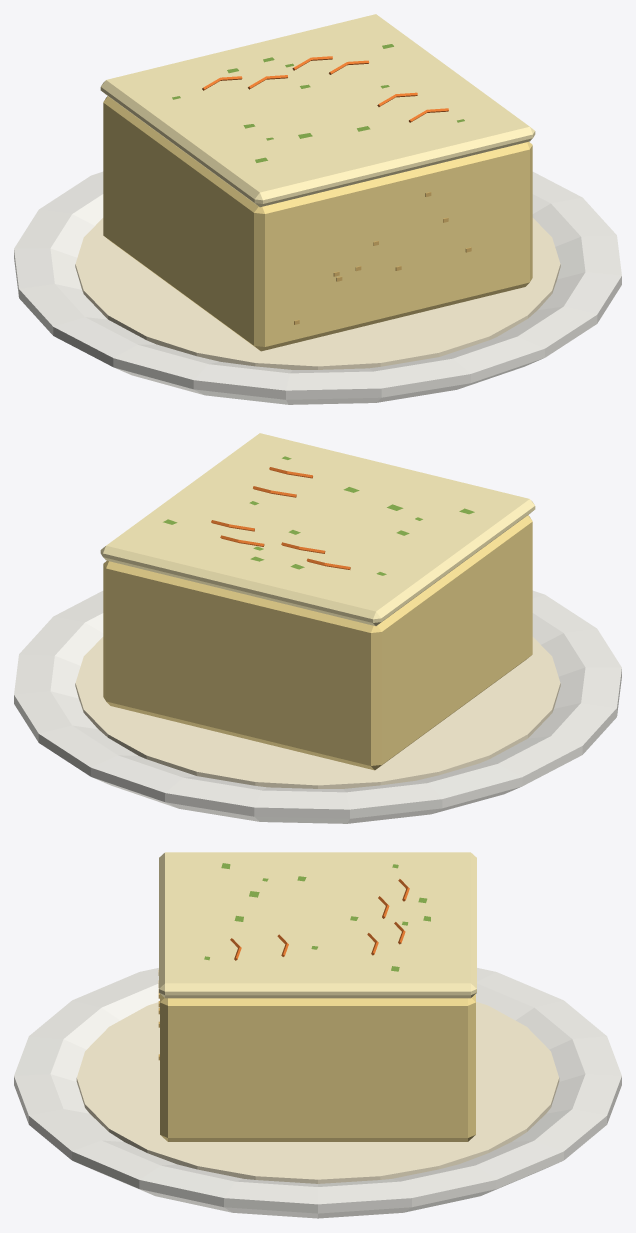
File: saffron-cake.glb
3 views of the same model, one above another, from view 1: azimuth 30°, elevation 25°; view 2: azimuth 150°, elevation 25°; view 3: azimuth 270°, elevation 25° (orthographic).
Parts seen in each view (by area): view 1: saffron-cake; view 2: saffron-cake; view 3: saffron-cake.
Boxes of the visible parts, x1,y1,x2,y2 form: saffron-cake: (14,14,621,404); saffron-cake: (14,433,621,823); saffron-cake: (14,852,621,1218).
Bounding box in the file's own units: 0.3 × 0.1059 × 0.3.
